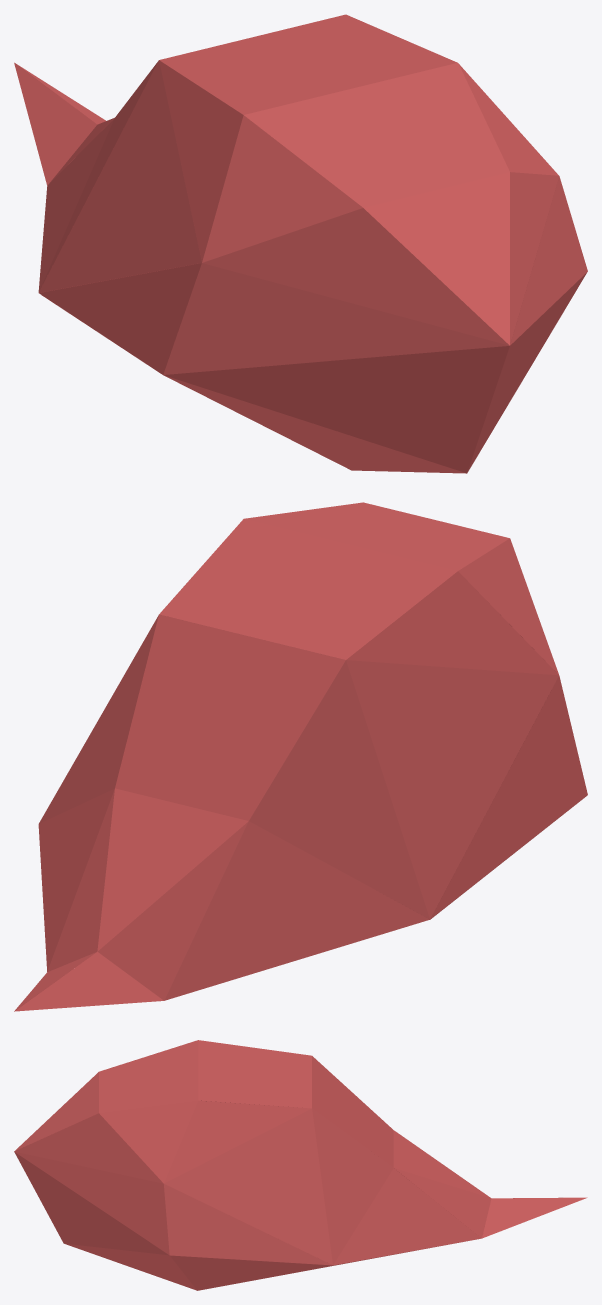
File: objcol_dossy_body.glb
The picture shows the model from 3 angles, top to bottom: view 1: azimuth 30°, elevation 25°; view 2: azimuth 150°, elevation 25°; view 3: azimuth 270°, elevation 25°; orthographic projection. The views are drawn at different scales.
Visible parts, largest first — view 1: dossy_body_col; view 2: dossy_body_col; view 3: dossy_body_col.
Part boxes in pixels (box(x1,y1,x2,y2)): dossy_body_col: box(14, 14, 587, 473); dossy_body_col: box(14, 502, 587, 1011); dossy_body_col: box(14, 1040, 587, 1290).
Size of the model in its own units: 0.49 by 0.4203 by 0.9908.
